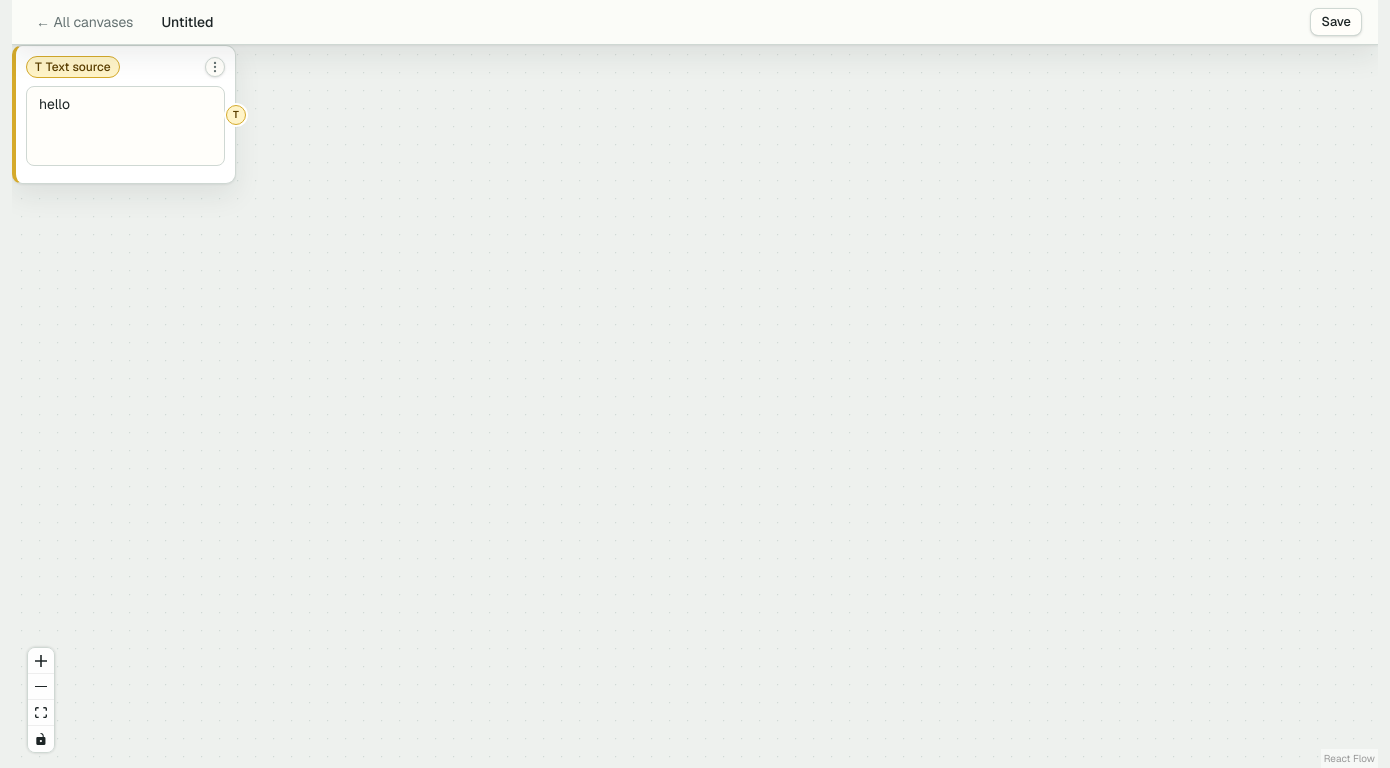
Test: CanvasEditor node actions menu (delete/duplicate) › duplicates a node, keeping its data but placing it at a new position
The image size is (1390, 768).
Click the button named "Node actions". click: (215, 67)
box: [205,57,225,77]
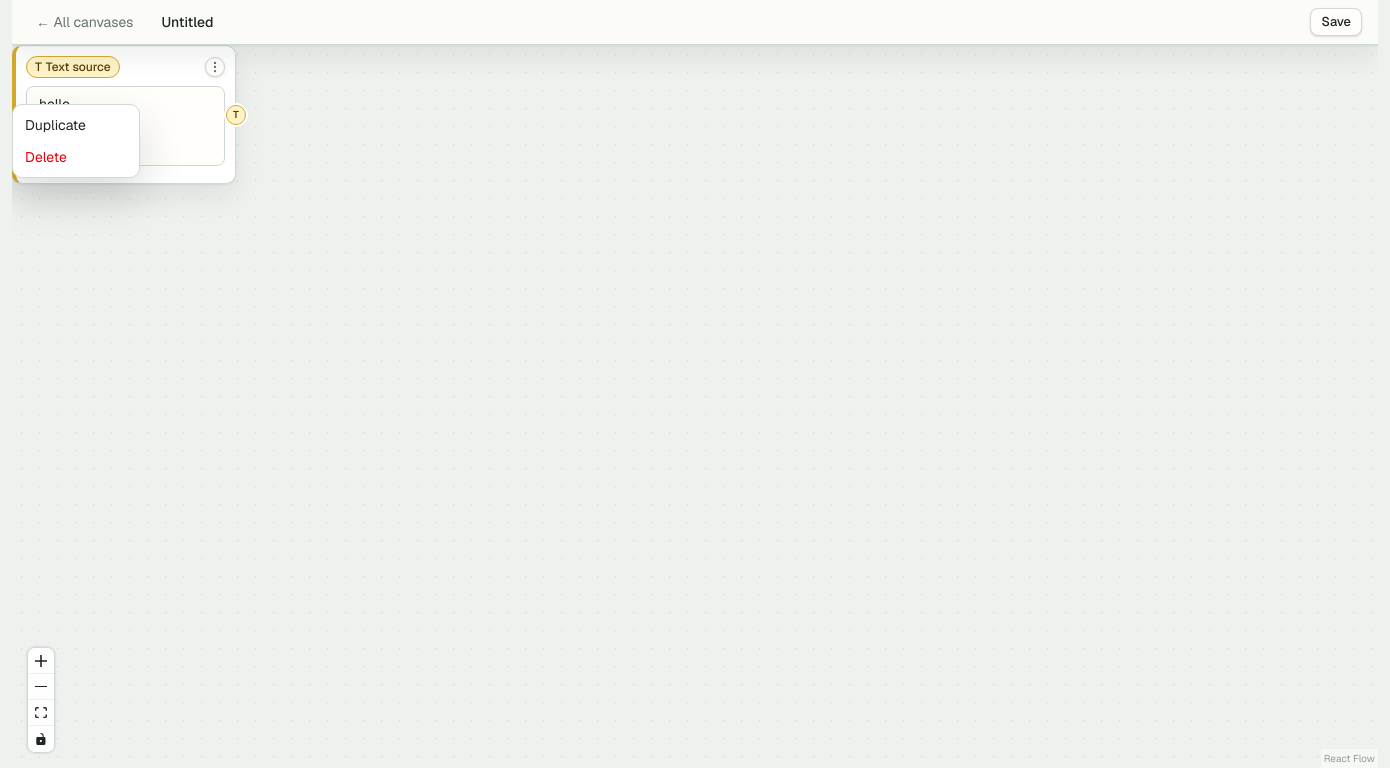
Click the menu item "Duplicate". click: (55, 125)
box: [25,116,86,134]
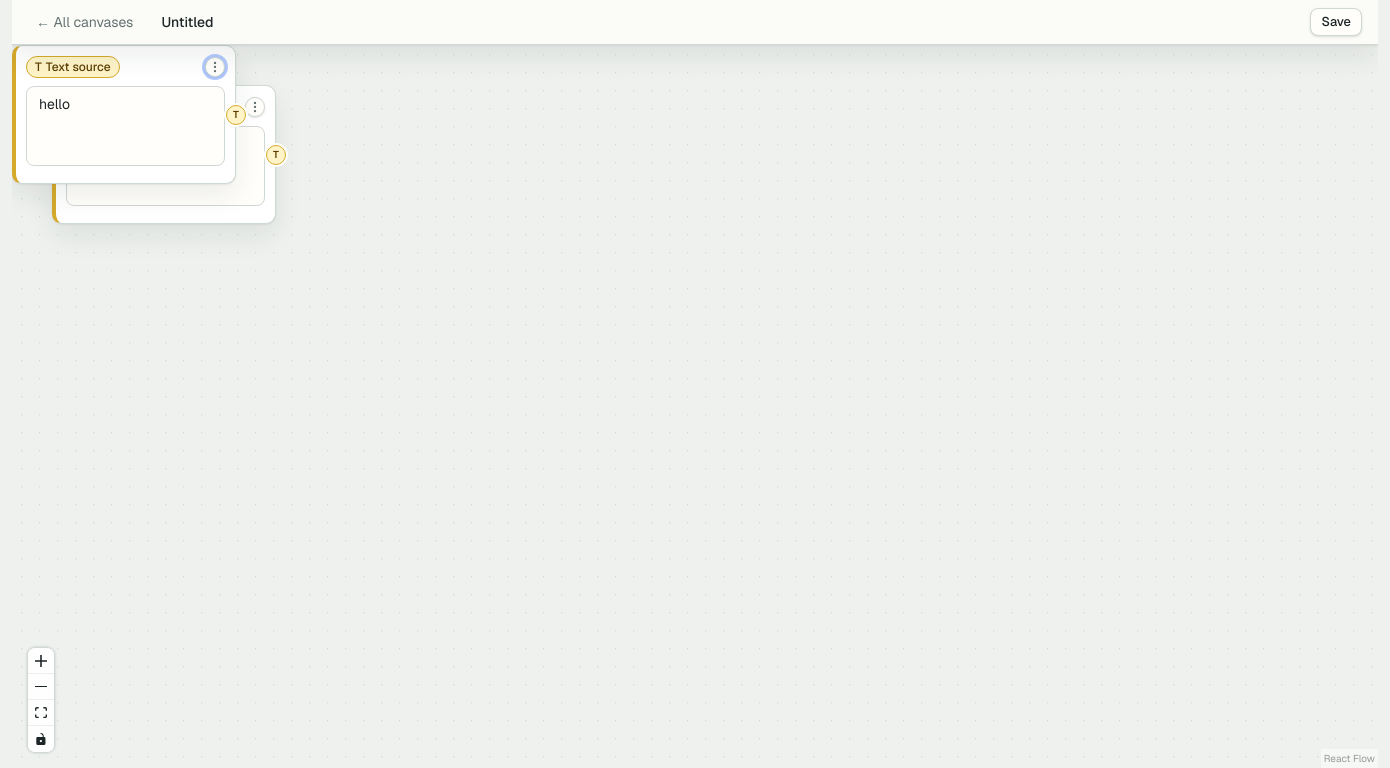
Expected: the number of elements with class "react-flow__node" is 2, [12,45,236,184]; [52,85,276,224]
Expected: the number of text boxes with placeholder "Enter text…" is 2, [26,86,225,166]; [66,126,265,206]
